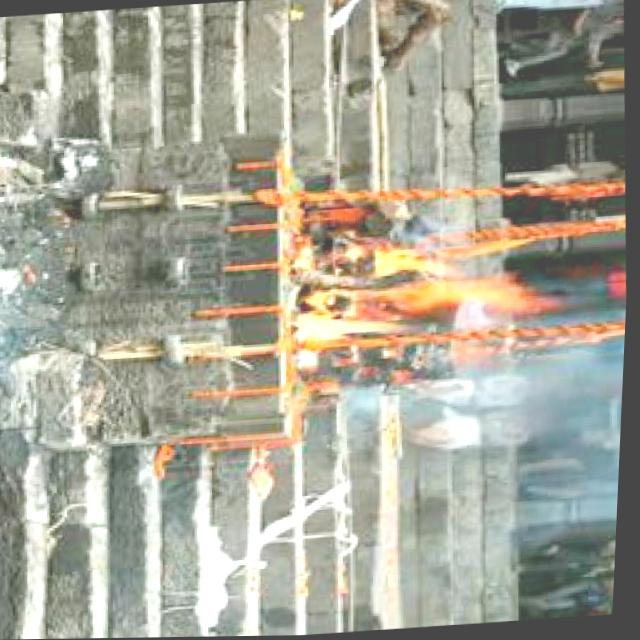helmet: (292, 230, 541, 374)
